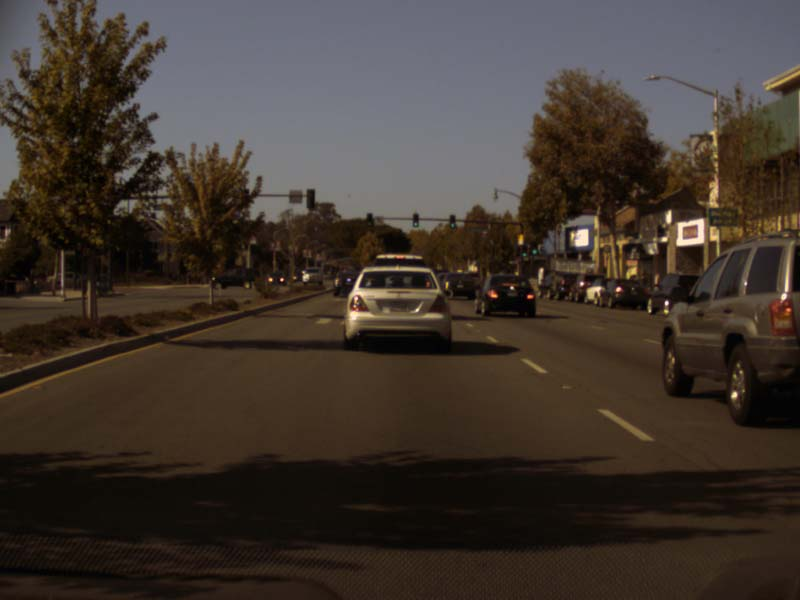Green: (365, 213, 373, 226), (530, 241, 537, 255), (412, 212, 418, 227), (449, 214, 455, 228), (522, 247, 526, 257)
